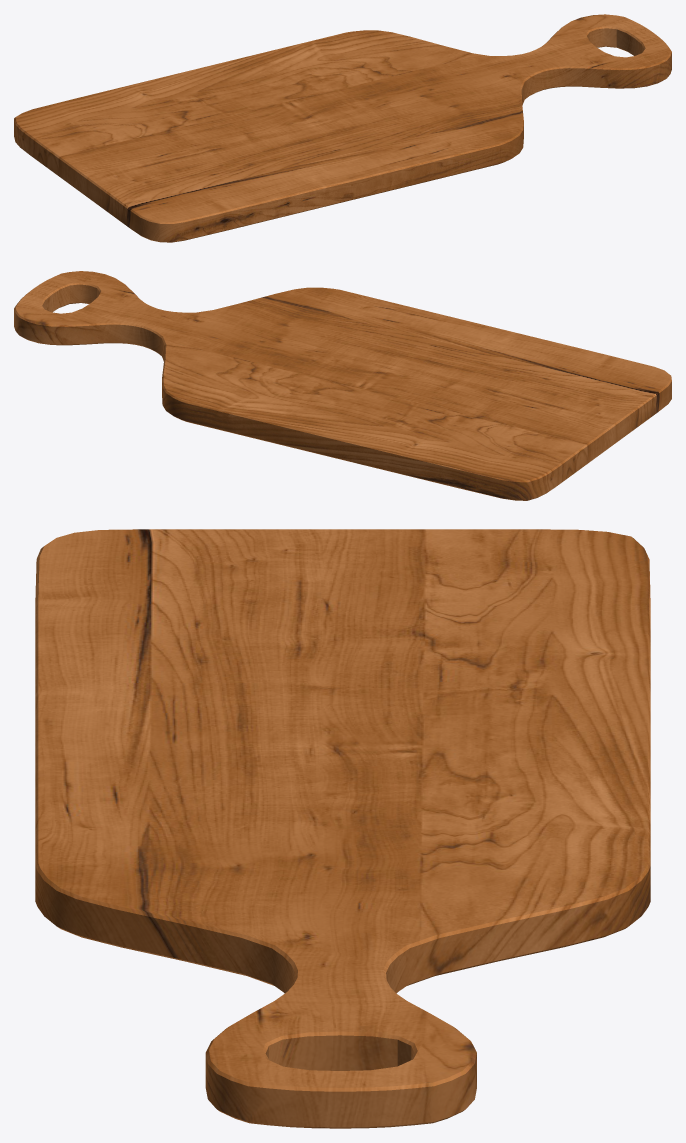
Rendered from Chopping board.FBX.
3 renders of one model, top to bottom at view 1: azimuth 30°, elevation 25°; view 2: azimuth 150°, elevation 25°; view 3: azimuth 270°, elevation 25°, orthographic. The views are drawn at different scales.
Visible parts, largest first — view 1: chopping board; view 2: chopping board; view 3: chopping board.
Part boxes in pixels (x1=…): chopping board: x1=14, y1=14, x2=671, y2=242; chopping board: x1=14, y1=271, x2=671, y2=500; chopping board: x1=35, y1=529, x2=650, y2=1128.
Bounding box in the file's own units: 29.92 × 1.01 × 13.87.
Materials: 1 (1 with a texture image).
